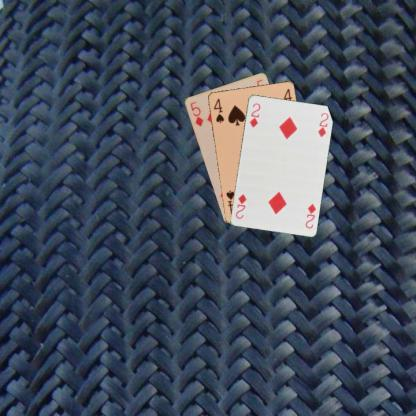2d: (247, 100, 262, 129), (303, 201, 317, 229)
4s: (211, 96, 225, 124)
5d: (187, 98, 205, 127)
